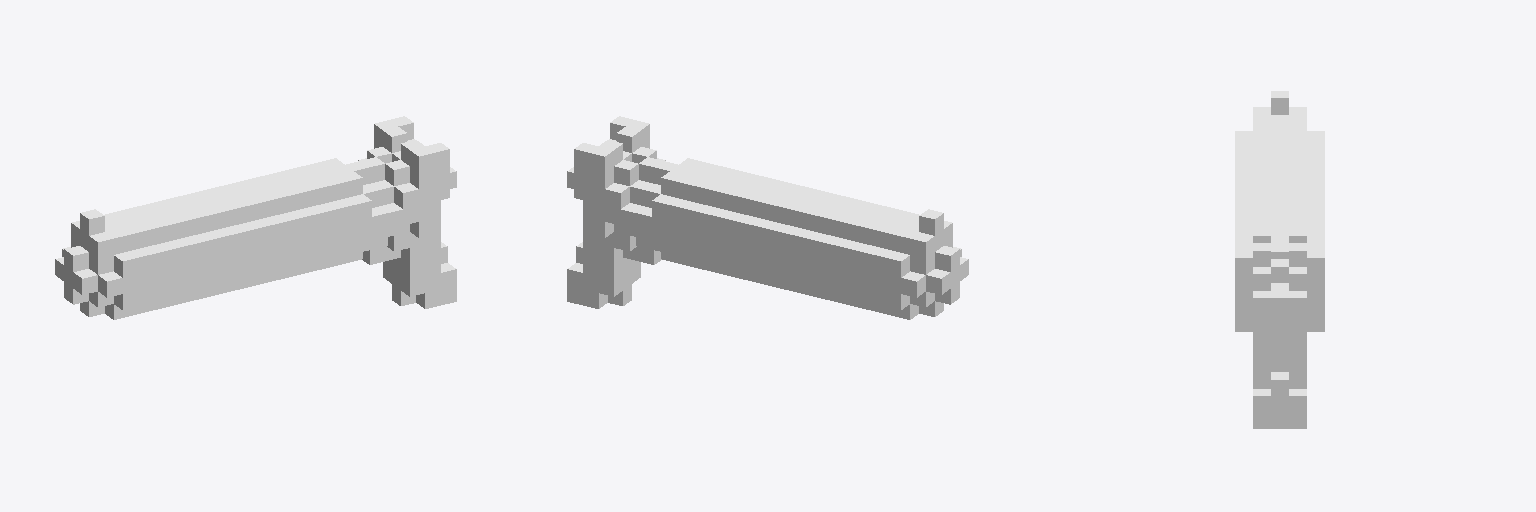
Rendered from charge_gun1.obj.
The picture shows the model from 3 angles: view 1: azimuth 30°, elevation 25°; view 2: azimuth 150°, elevation 25°; view 3: azimuth 270°, elevation 25°; orthographic projection.
Parts seen in each view (by area): view 1: object 1; view 2: object 1; view 3: object 1.
Boxes of the visible parts, x1=… form: object 1: x1=55, y1=116, x2=456, y2=319; object 1: x1=567, y1=116, x2=968, y2=319; object 1: x1=1235, y1=91, x2=1324, y2=428.
Bounding box in the file's own units: 2.4 × 1 × 0.5.